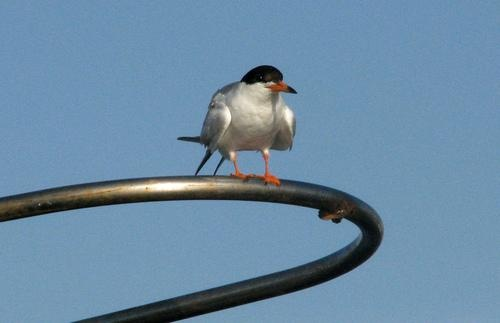bird: (177, 64, 299, 183)
